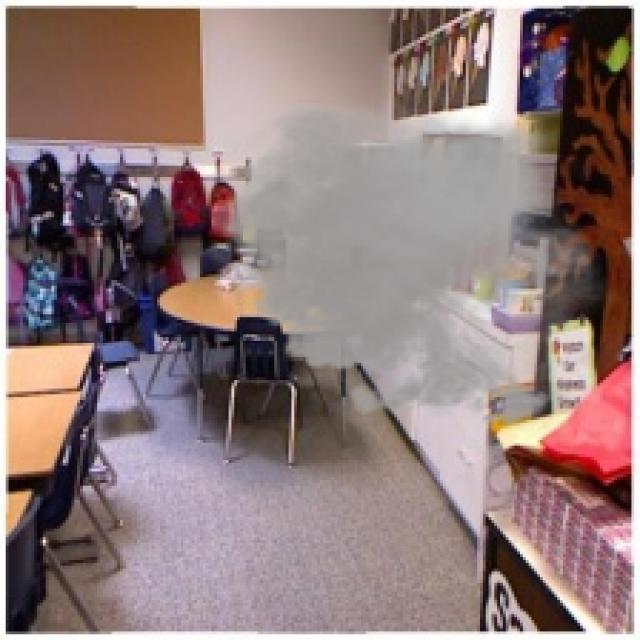Smoke: (197, 92, 617, 437)
